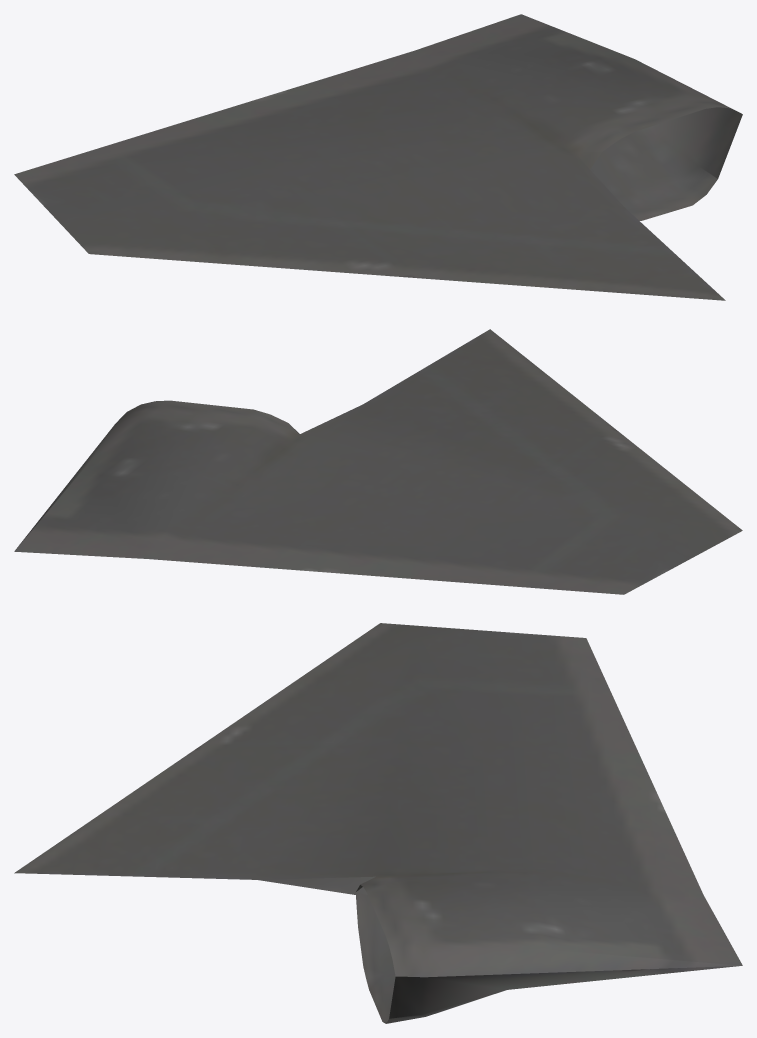
The model's file is backleftwing_new.obj.
The picture shows the model from 3 angles, top to bottom: view 1: azimuth 30°, elevation 25°; view 2: azimuth 150°, elevation 25°; view 3: azimuth 270°, elevation 25°; orthographic projection. The views are drawn at different scales.
Parts seen in each view (by area): view 1: f35c-airframe.004; view 2: f35c-airframe.004; view 3: f35c-airframe.004.
Part boxes in pixels (left/top/right/bottom): f35c-airframe.004: left=14, top=14, right=742, bottom=300; f35c-airframe.004: left=14, top=329, right=742, bottom=594; f35c-airframe.004: left=14, top=623, right=742, bottom=1023.
Size of the model in its own units: 3.25 by 0.4916 by 3.07.
1 material, 1 textured.
